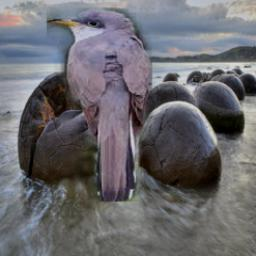Cuckoo: (47, 7, 152, 202)
